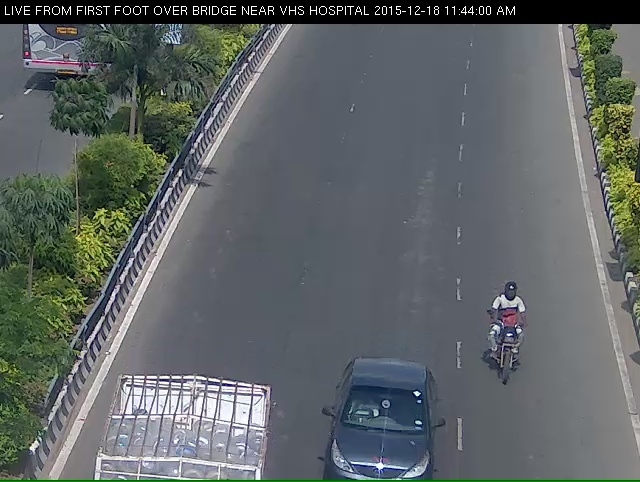Car: (312, 362, 457, 479)
Person: (488, 286, 535, 414)
